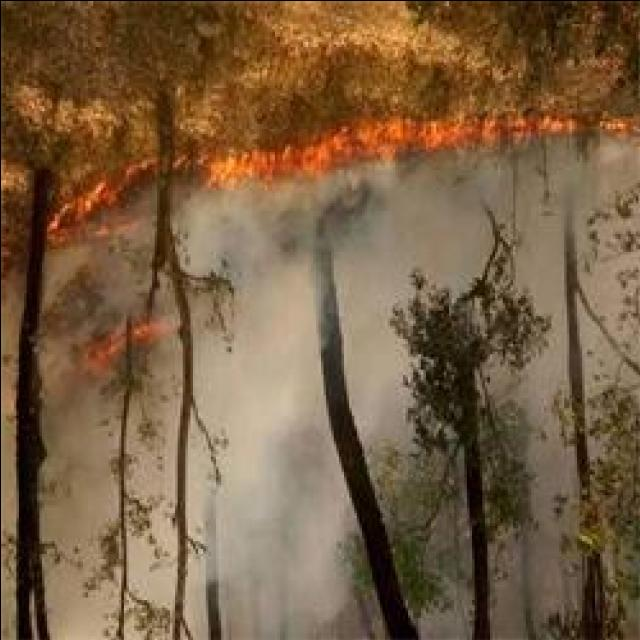fire: (350, 118, 410, 154), (217, 150, 255, 180)
smoke: (238, 269, 312, 442), (280, 469, 342, 604), (371, 184, 466, 272), (190, 205, 252, 259)
